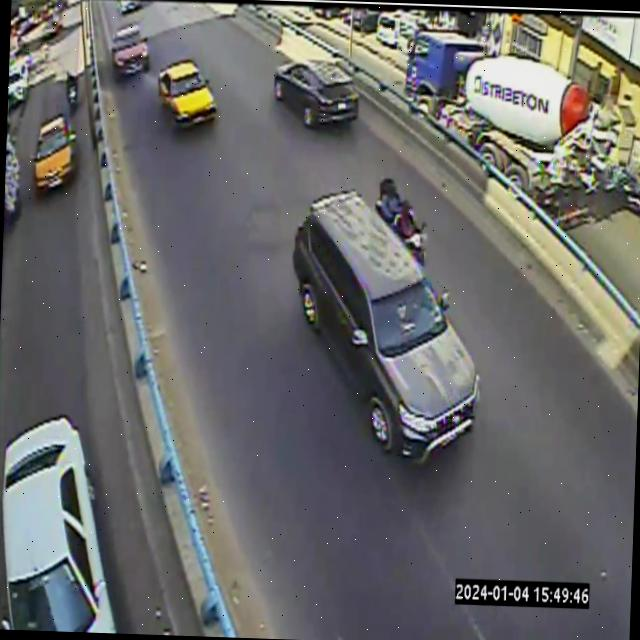car: (293, 189, 479, 460), (464, 55, 589, 135), (274, 59, 358, 127), (158, 60, 216, 126), (111, 23, 149, 76)
